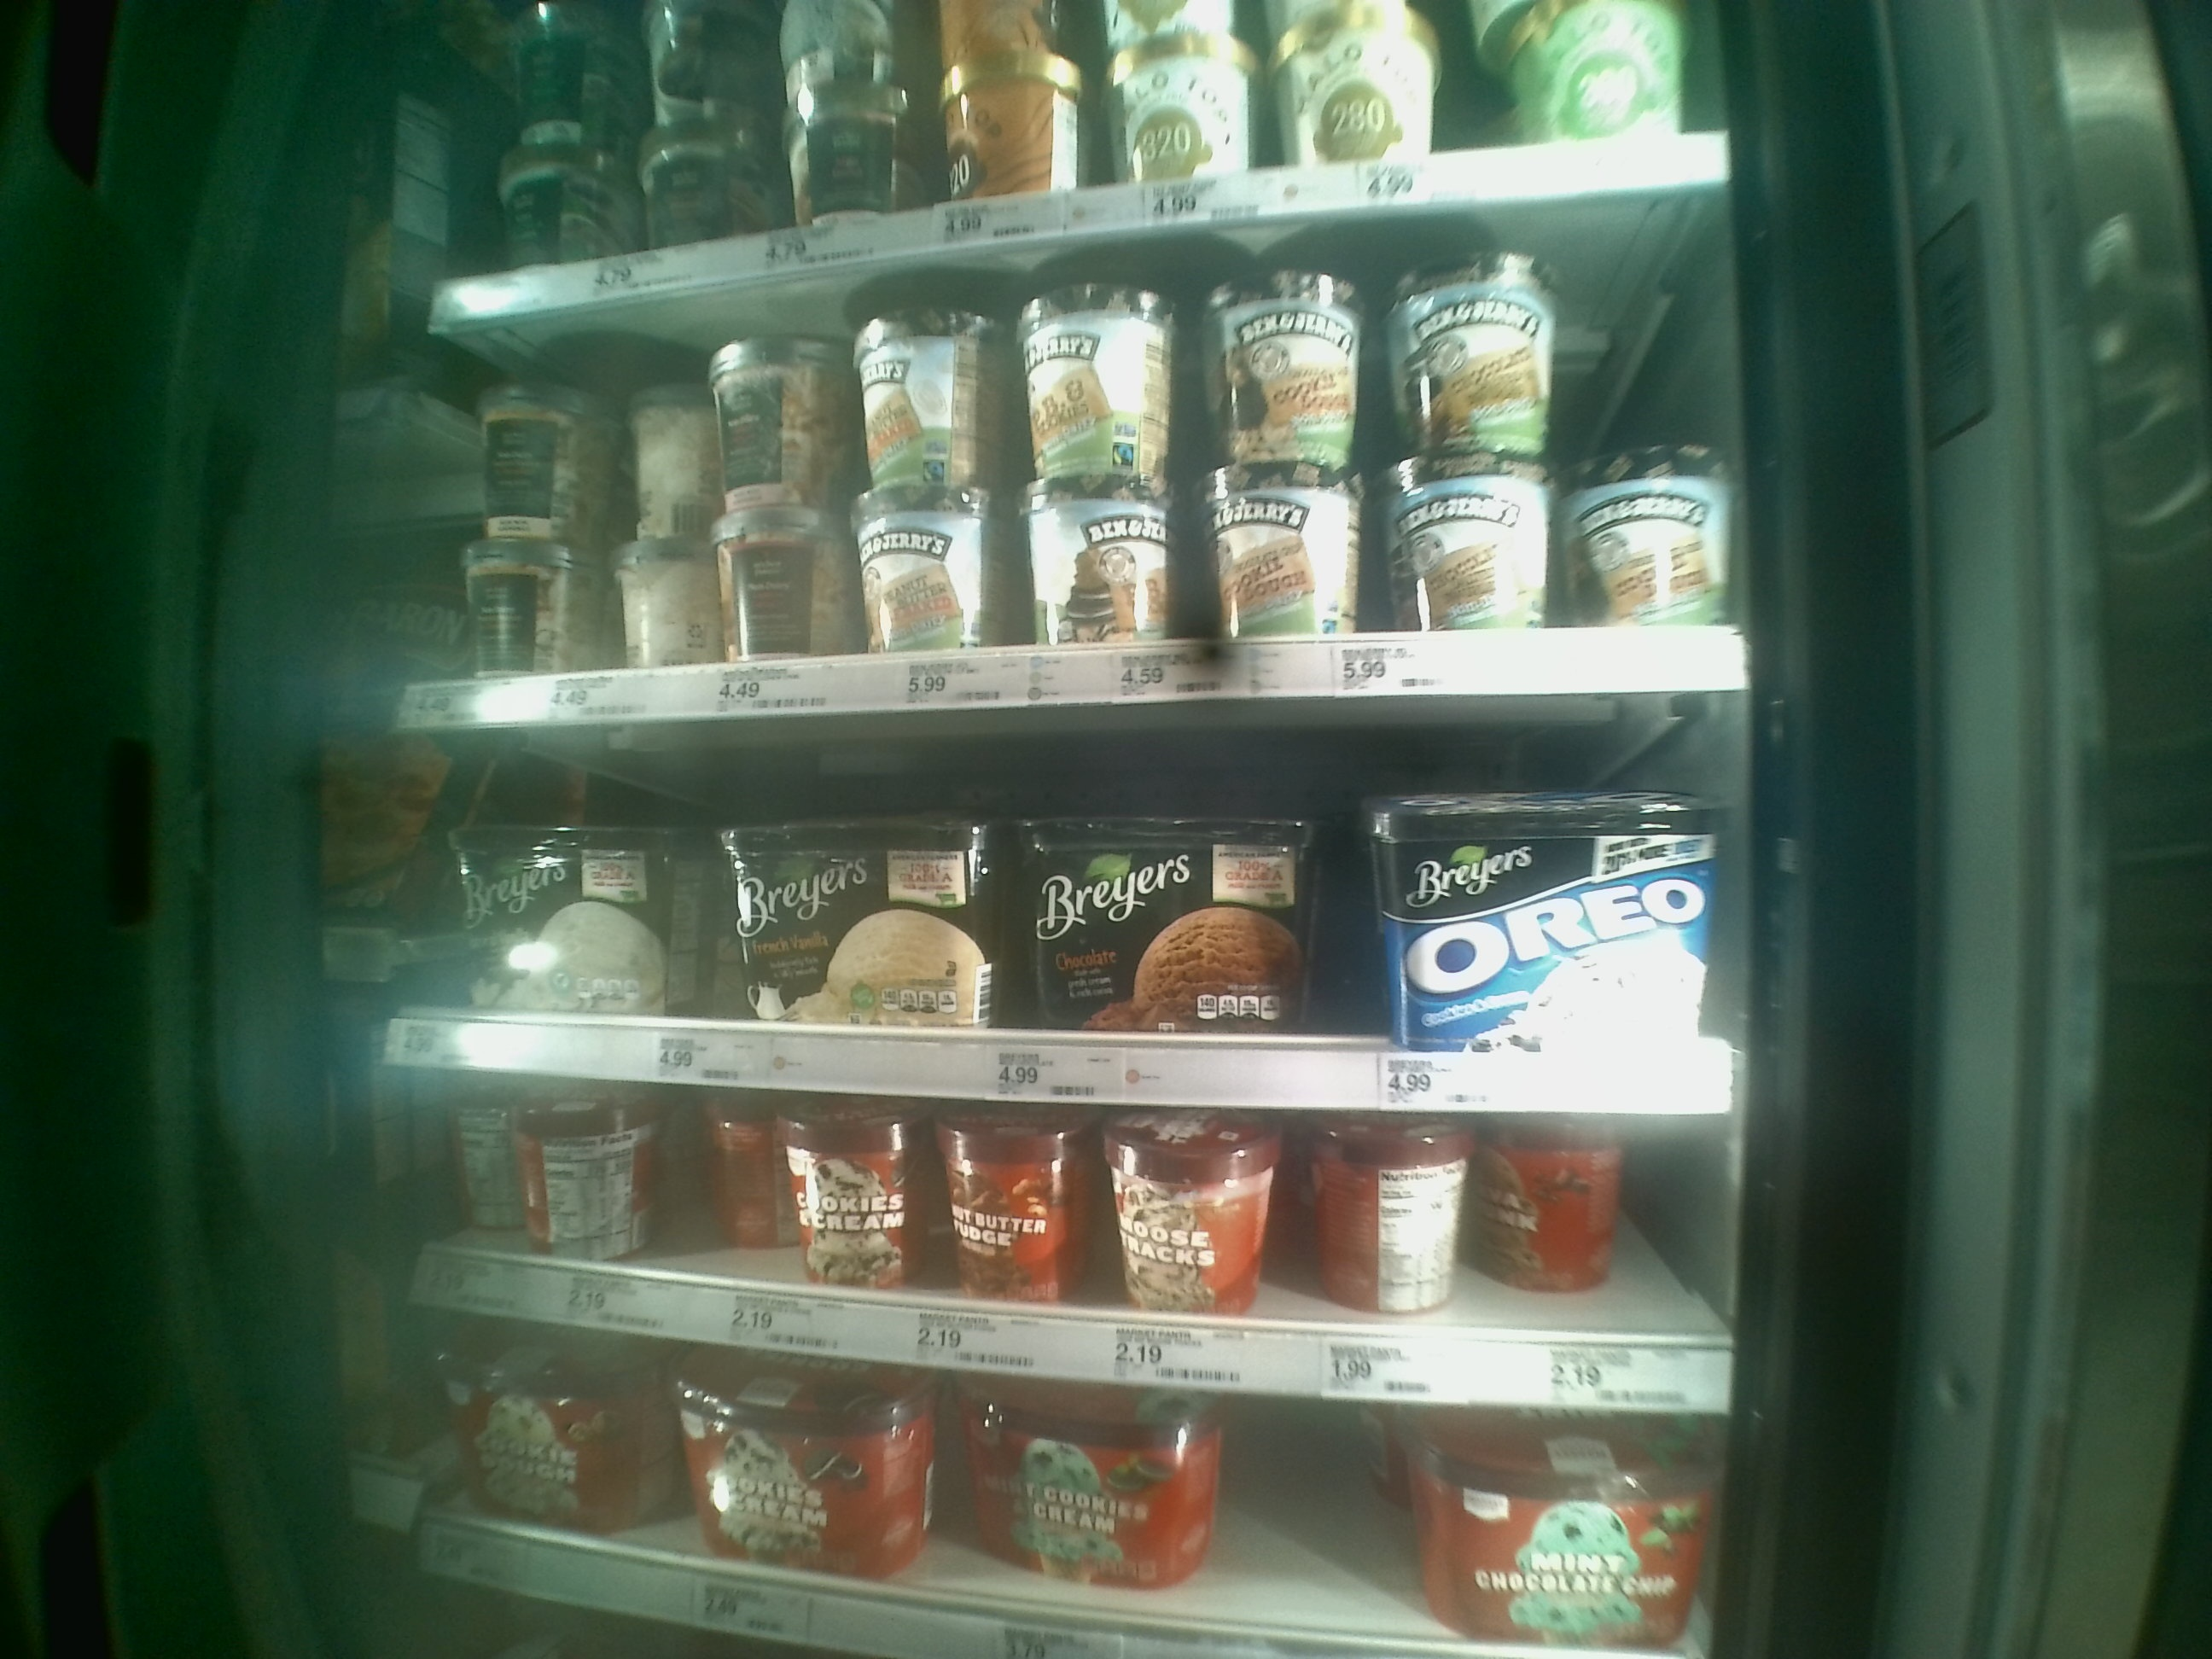shelf: (385, 239, 1745, 734), (387, 1028, 1728, 1375)
